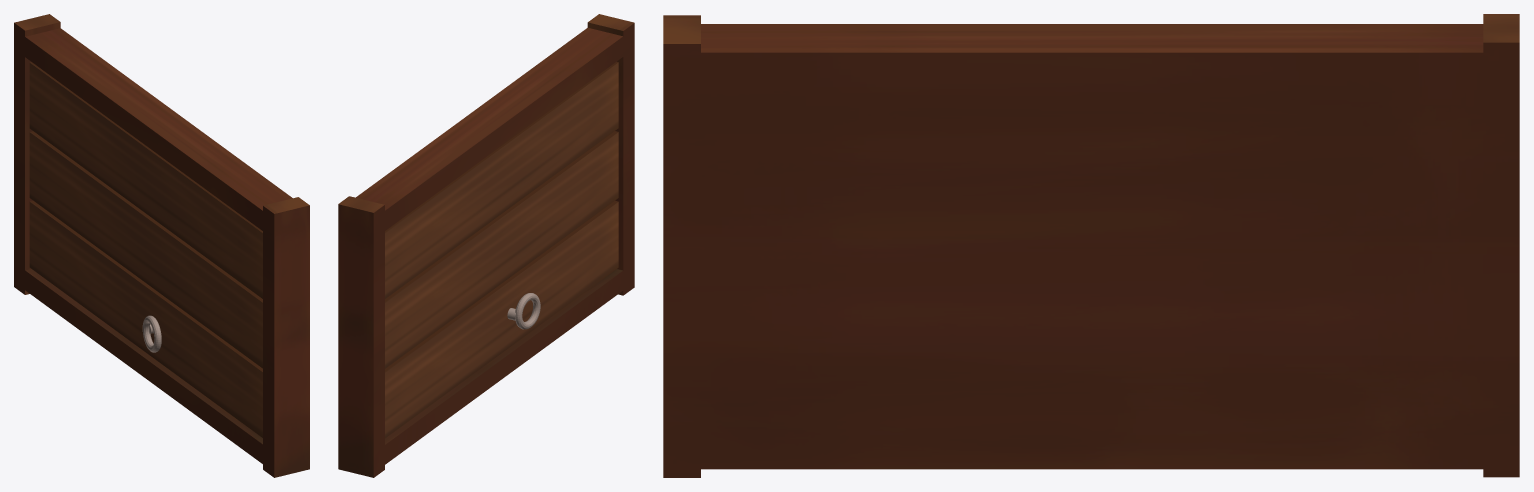
The model's file is door_mod.fbx.
3 views of the same model, side by side, from view 1: azimuth 30°, elevation 25°; view 2: azimuth 150°, elevation 25°; view 3: azimuth 270°, elevation 25° (orthographic). The views are drawn at different scales.
Visible parts, largest first — view 1: Cube.037; view 2: Cube.037; view 3: Cube.037.
Boxes of the visible parts, box(x1,y1,x2,y2) form: Cube.037: box(14, 14, 309, 477); Cube.037: box(338, 14, 634, 477); Cube.037: box(663, 14, 1519, 477).
Size of the model in its own units: 73.35 by 386 by 687.
Materials: 3 (2 with a texture image).
